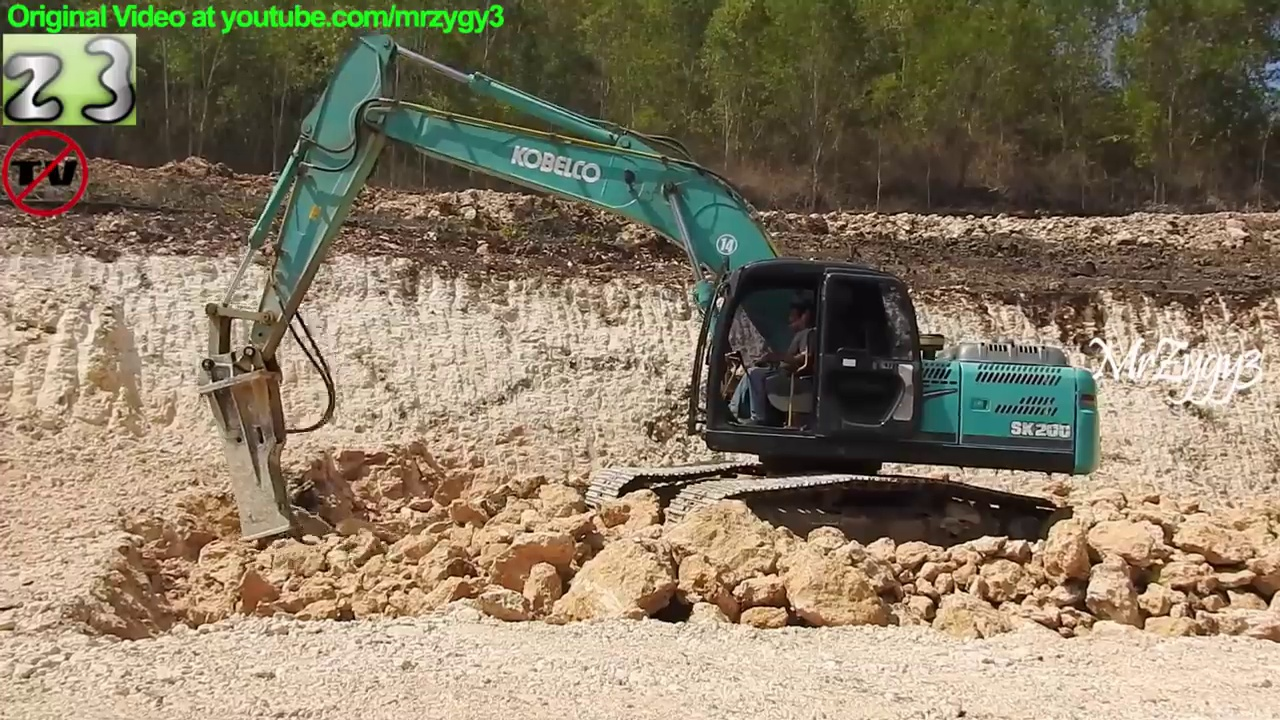excavator breaker: (191, 33, 1106, 574)
